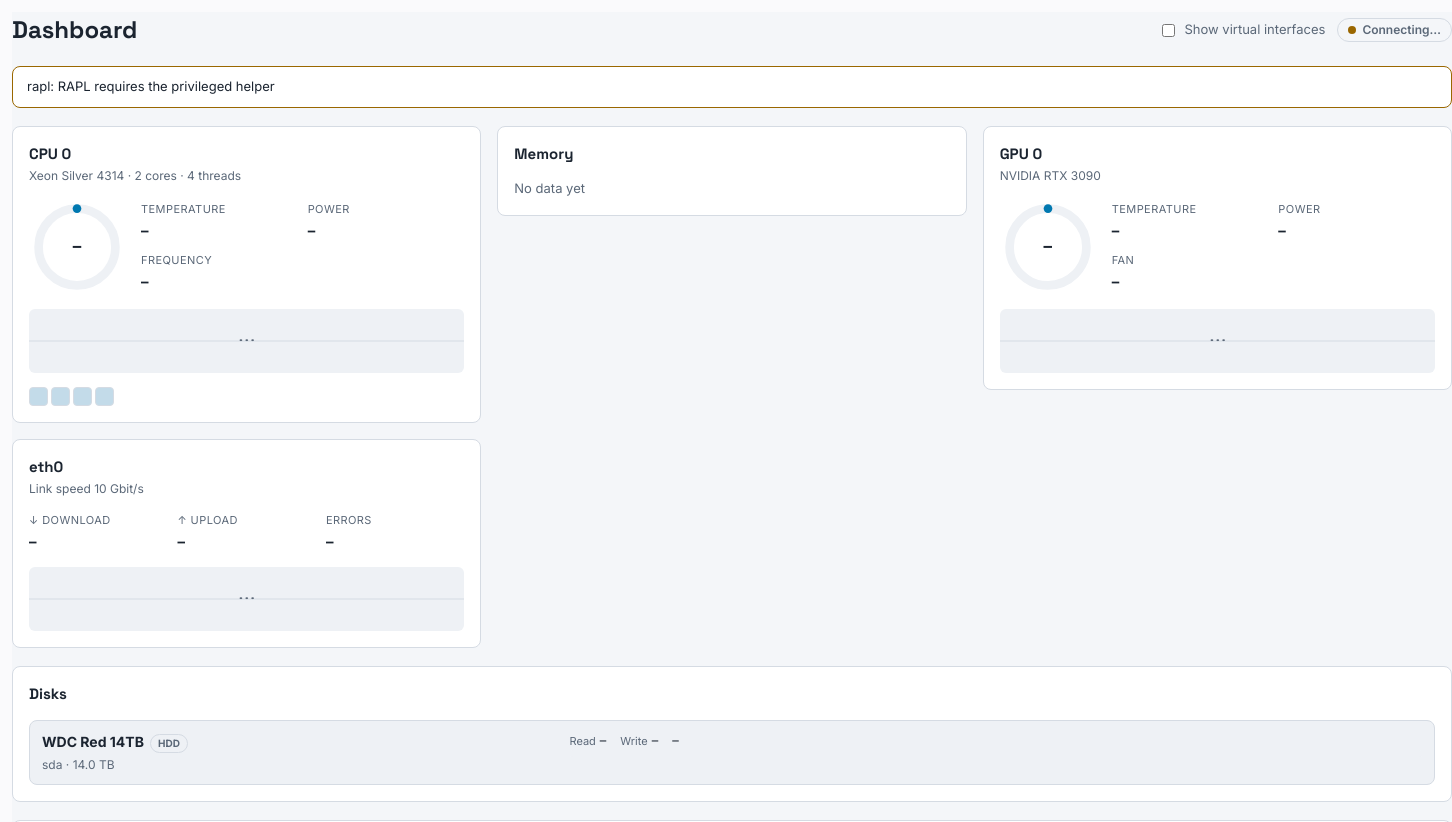
Test case: Dashboard › hides virtual interfaces until asked and survives a dropped socket
This screenshot has width=1452, height=822.
Expected: the heading "eth0" is shown, [29,457,63,476]
Expected: the text "docker0" is not shown
Click the checkbox labelled "Show virtual interfaces": (1169, 30) [1162,24,1176,36]
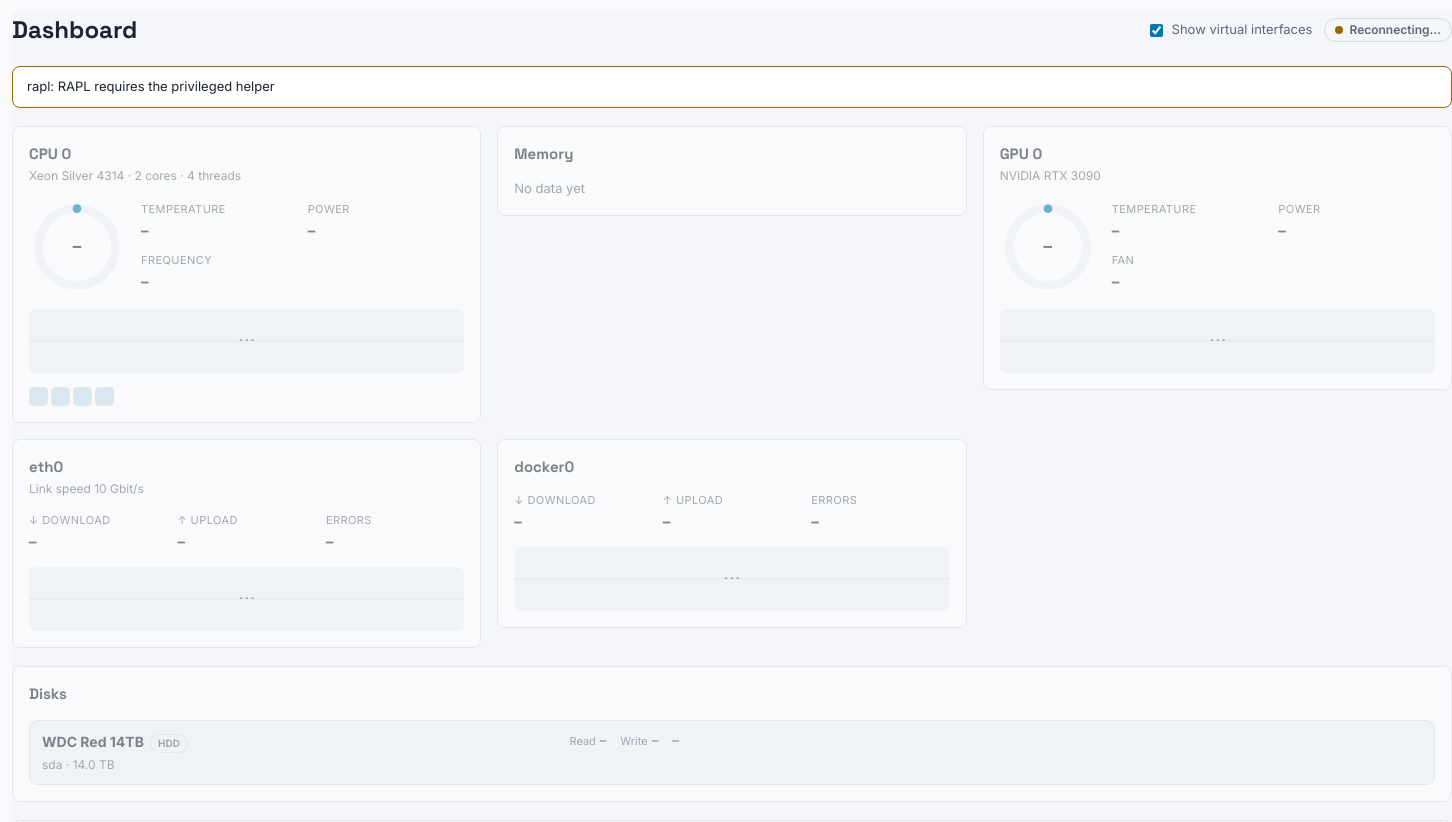
Expected: the heading "docker0" is shown, [514,456,574,478]
Expected: the text "Reconnecting…" is shown, [1324,18,1451,42]
